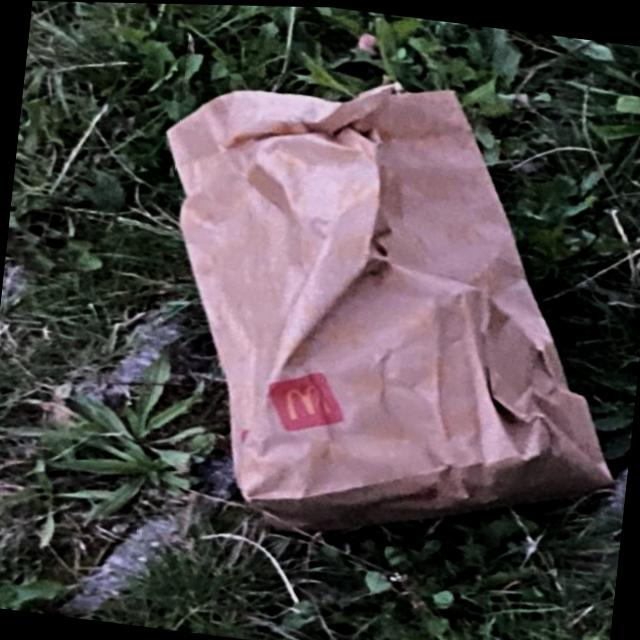Paper: (122, 48, 640, 568)
